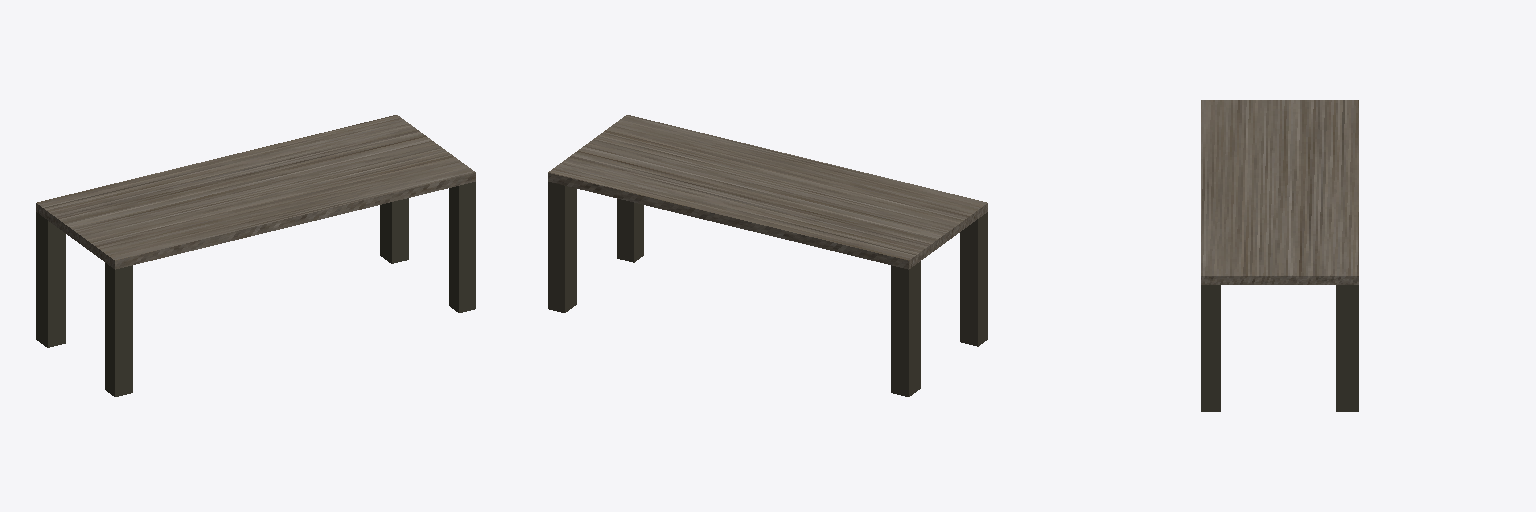
The picture shows the model from 3 angles: view 1: azimuth 30°, elevation 25°; view 2: azimuth 150°, elevation 25°; view 3: azimuth 270°, elevation 25°; orthographic projection.
Visible parts, largest first — view 1: Cube; view 2: Cube; view 3: Cube.
Part boxes in pixels (left/top/right/bottom): Cube: left=36, top=115, right=475, bottom=396; Cube: left=548, top=115, right=987, bottom=396; Cube: left=1201, top=100, right=1358, bottom=411.
Bounding box in the file's own units: 11.84 × 4.28 × 4.5.
1 materials, 1 textured.